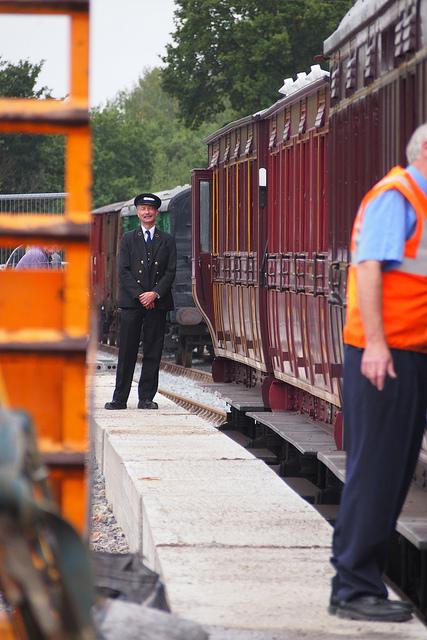Train: (189, 3, 427, 451), (90, 168, 214, 368)
